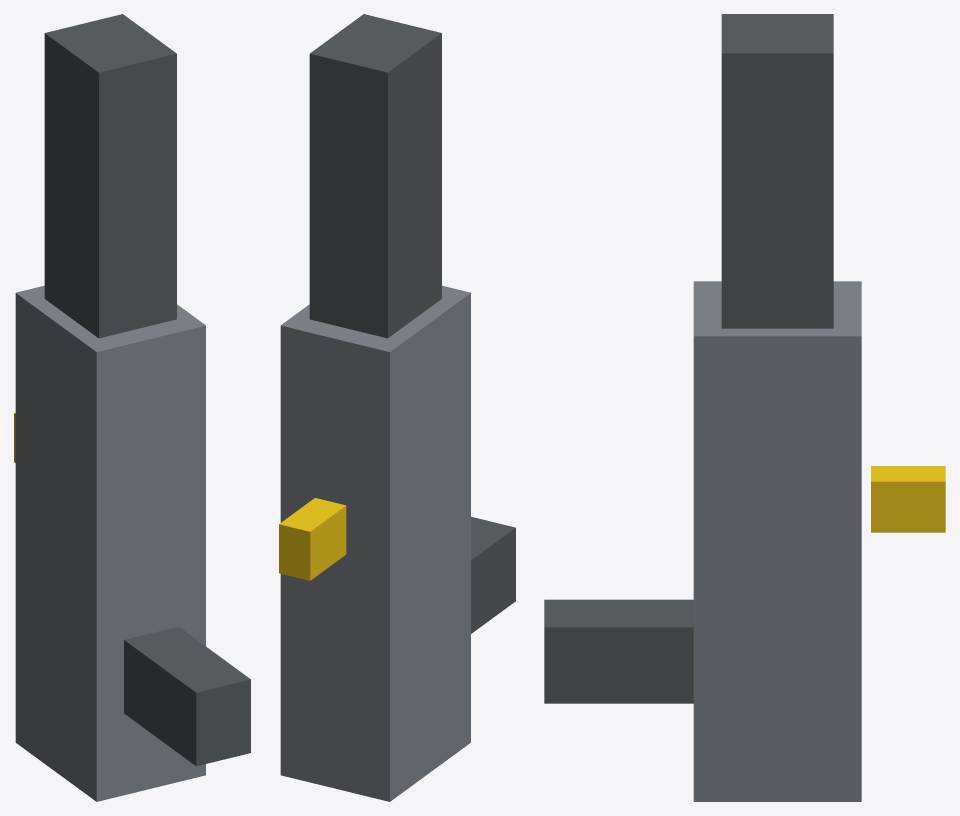
Rendered from weapon-pulsegun.glb.
3 views of the same model, side by side, from view 1: azimuth 30°, elevation 25°; view 2: azimuth 150°, elevation 25°; view 3: azimuth 270°, elevation 25° (orthographic). The views are drawn at different scales.
Visible parts, largest first — view 1: body, shroud, grip; view 2: body, shroud, sight, grip; view 3: body, shroud, grip, sight.
Part boxes in pixels (x1,y1,x2,y2): body: (15, 285, 205, 801); shroud: (44, 14, 176, 338); grip: (124, 626, 250, 766); body: (280, 285, 470, 801); shroud: (309, 14, 441, 338); sight: (279, 498, 346, 580); grip: (471, 516, 515, 633); body: (693, 281, 861, 801); shroud: (721, 14, 833, 328); grip: (544, 599, 693, 703); sight: (871, 466, 945, 532).
Bounding box in the file's own units: 0.14 × 0.875 × 0.43.
